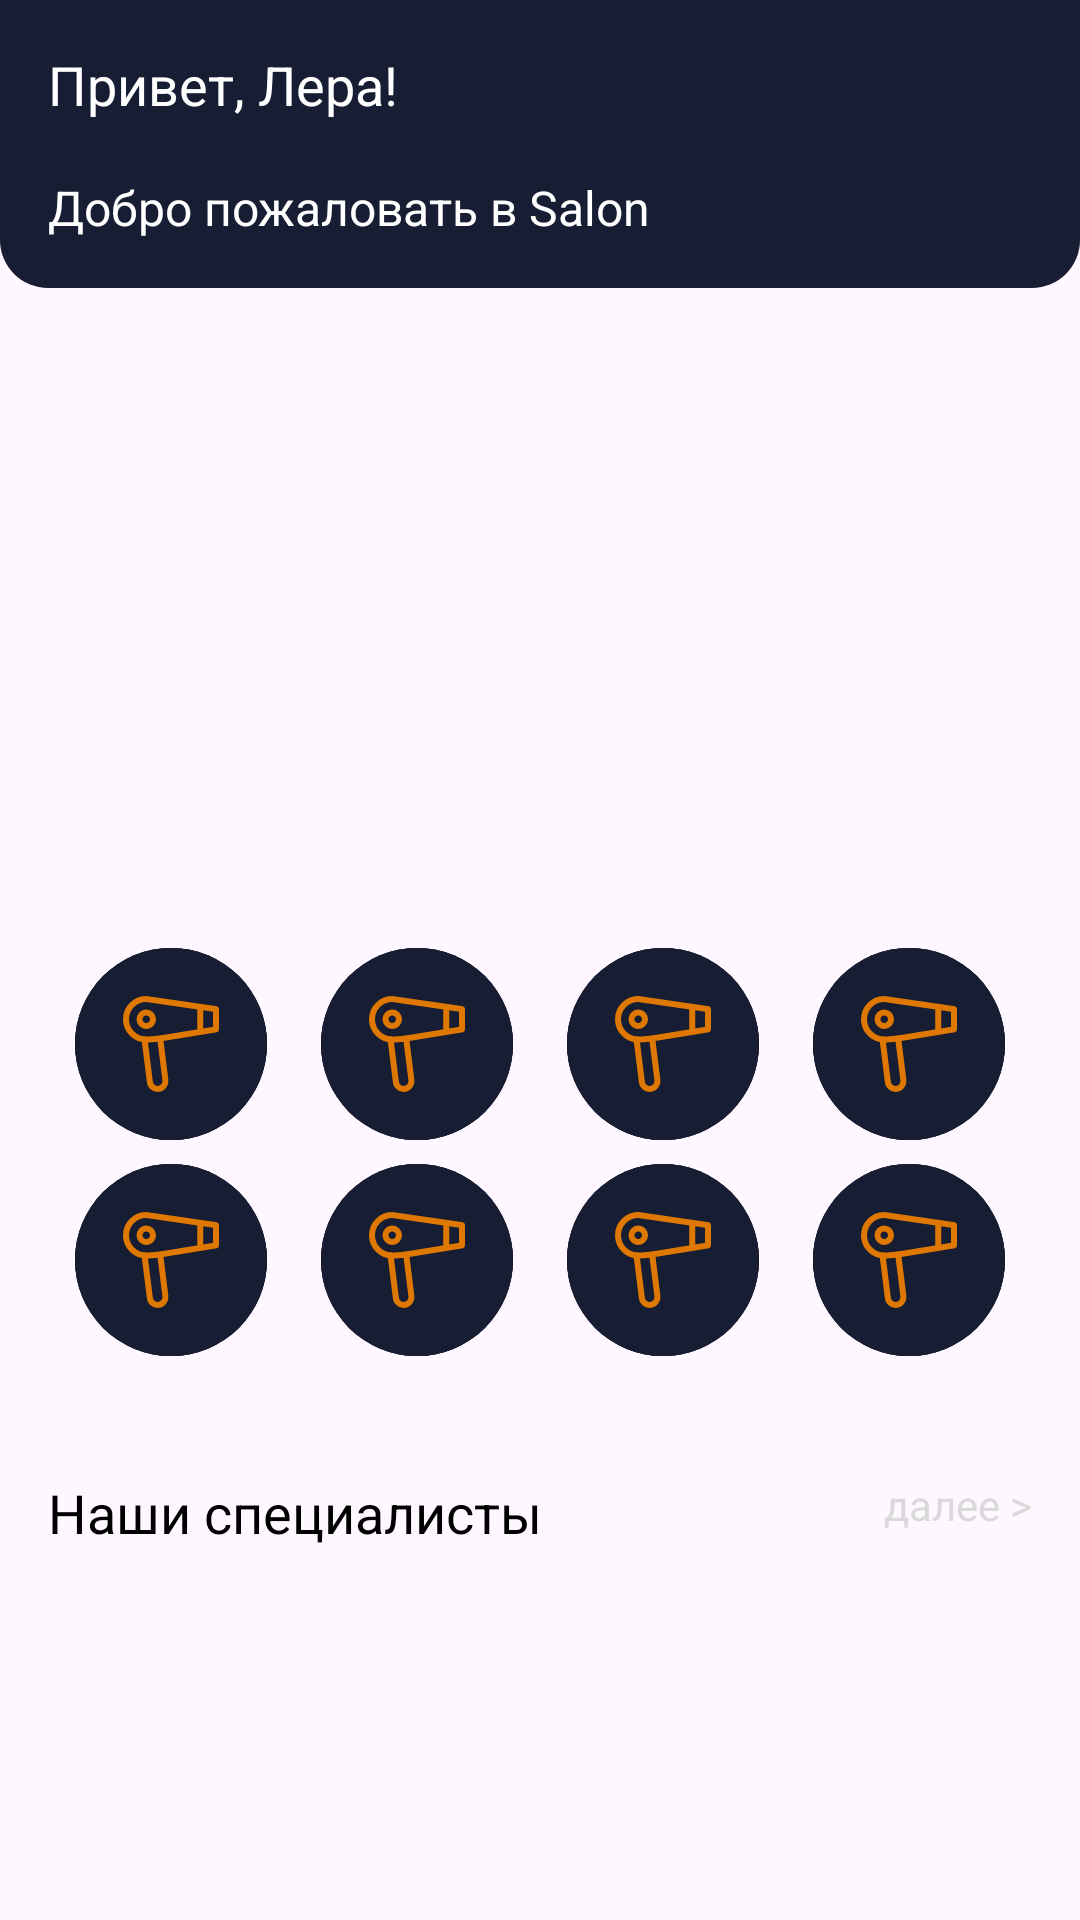

Locate icon controls on the screen. Image size 1080w x 1920h, boxes as detection(x1, y1, x2, y2).
fen: detection(75, 948, 267, 1140), detection(321, 948, 513, 1140), detection(567, 948, 759, 1140), detection(813, 948, 1005, 1140), detection(75, 1164, 267, 1356), detection(321, 1164, 513, 1356), detection(567, 1164, 759, 1356), detection(813, 1164, 1005, 1356)
